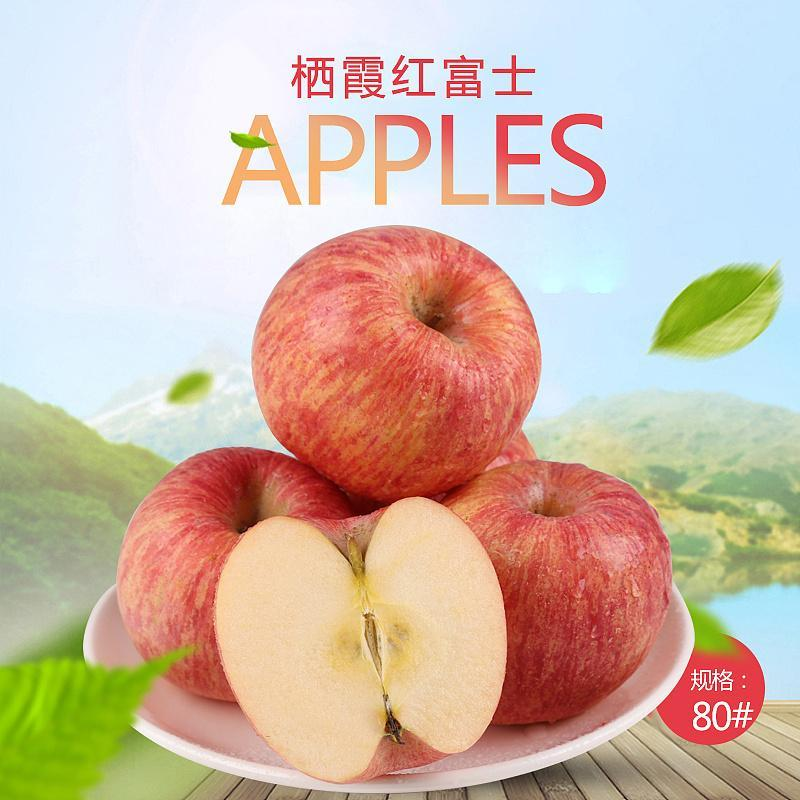apple: (247, 223, 542, 505), (435, 455, 677, 730), (111, 445, 361, 710)
